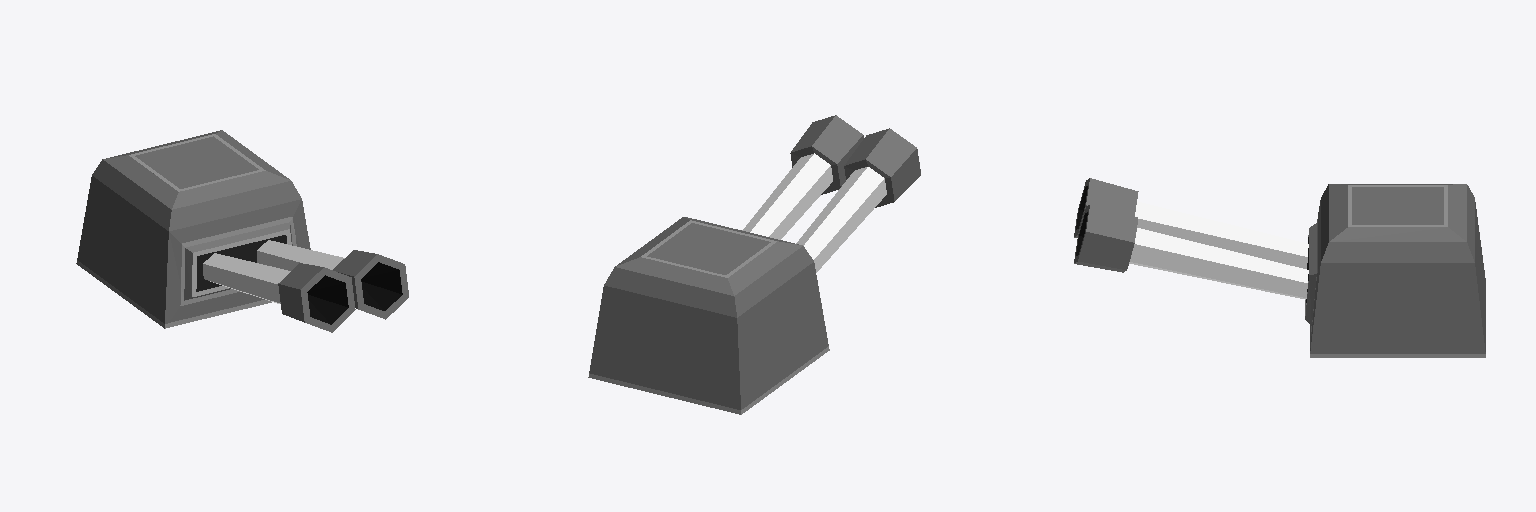
The picture shows the model from 3 angles: view 1: azimuth 30°, elevation 25°; view 2: azimuth 150°, elevation 25°; view 3: azimuth 270°, elevation 25°; orthographic projection.
Visible parts, largest first — view 1: Cylinder.008; view 2: Cylinder.008; view 3: Cylinder.008.
Boxes of the visible parts, <box> form: Cylinder.008: <box>76,130,408,332</box>; Cylinder.008: <box>588,115,920,414</box>; Cylinder.008: <box>1074,178,1485,357</box>.
Bounding box in the file's own units: 0.2582 × 0.2093 × 0.6029.
1 materials, 1 textured.